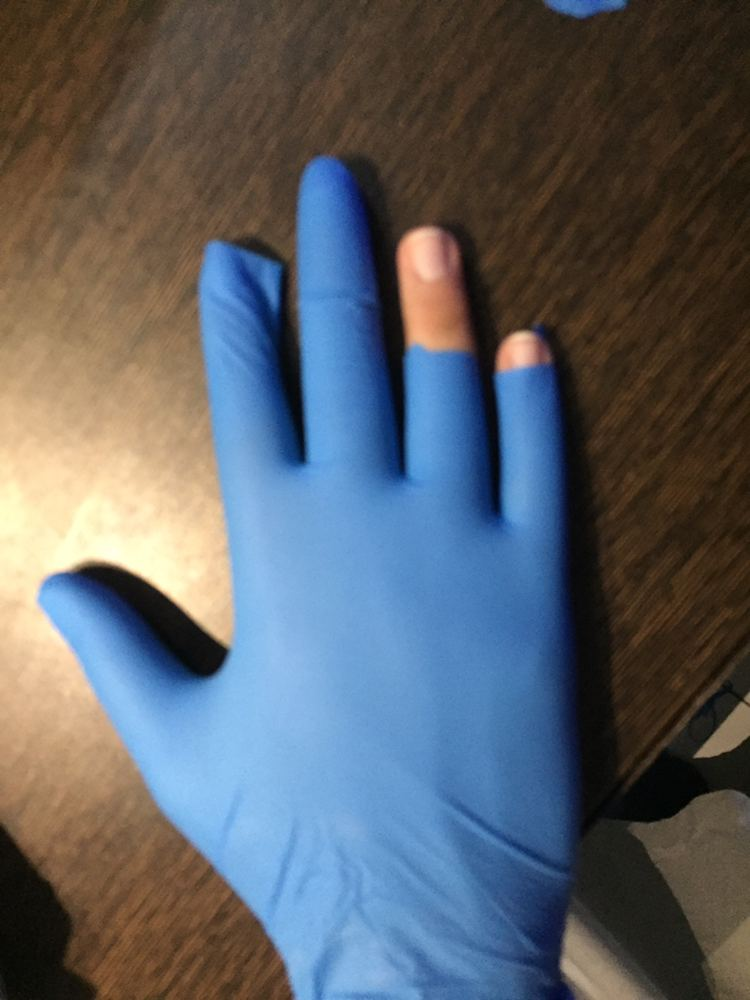defected: (38, 104, 615, 881)
